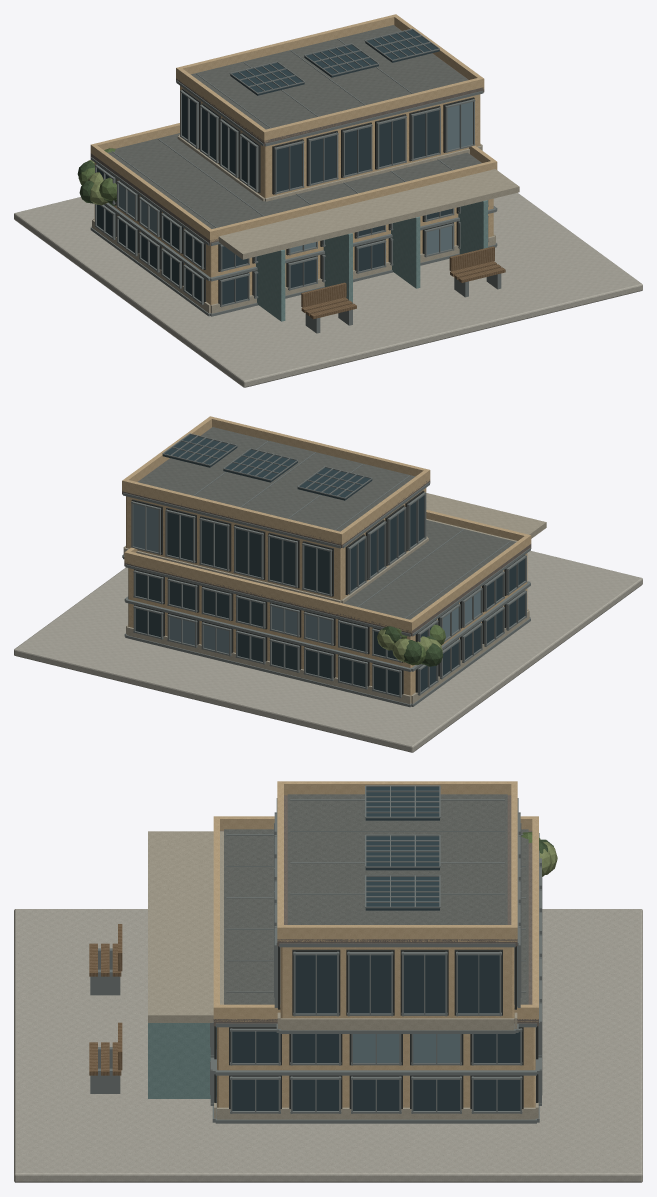
The model's file is EXP_LIBRARY.glb.
3 renders of one model, top to bottom at view 1: azimuth 30°, elevation 25°; view 2: azimuth 150°, elevation 25°; view 3: azimuth 270°, elevation 25°, orthographic. The views are drawn at different scales.
Parts seen in each view (by area): view 1: EXP_LIBRARY_Visual; view 2: EXP_LIBRARY_Visual; view 3: EXP_LIBRARY_Visual.
Part boxes in pixels (bbox=[...]): EXP_LIBRARY_Visual: bbox=[14, 14, 642, 387]; EXP_LIBRARY_Visual: bbox=[14, 416, 642, 752]; EXP_LIBRARY_Visual: bbox=[14, 781, 642, 1182].
Size of what is drawn, in the model's own units: 5.92 by 2.36 by 5.92.
14 materials, 10 textured.
